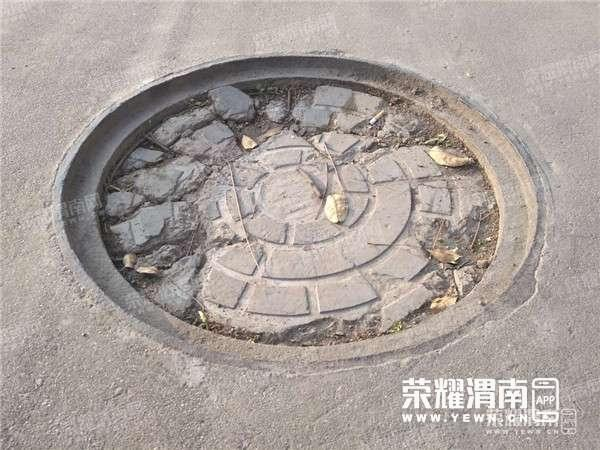broke: (42, 43, 555, 367)
